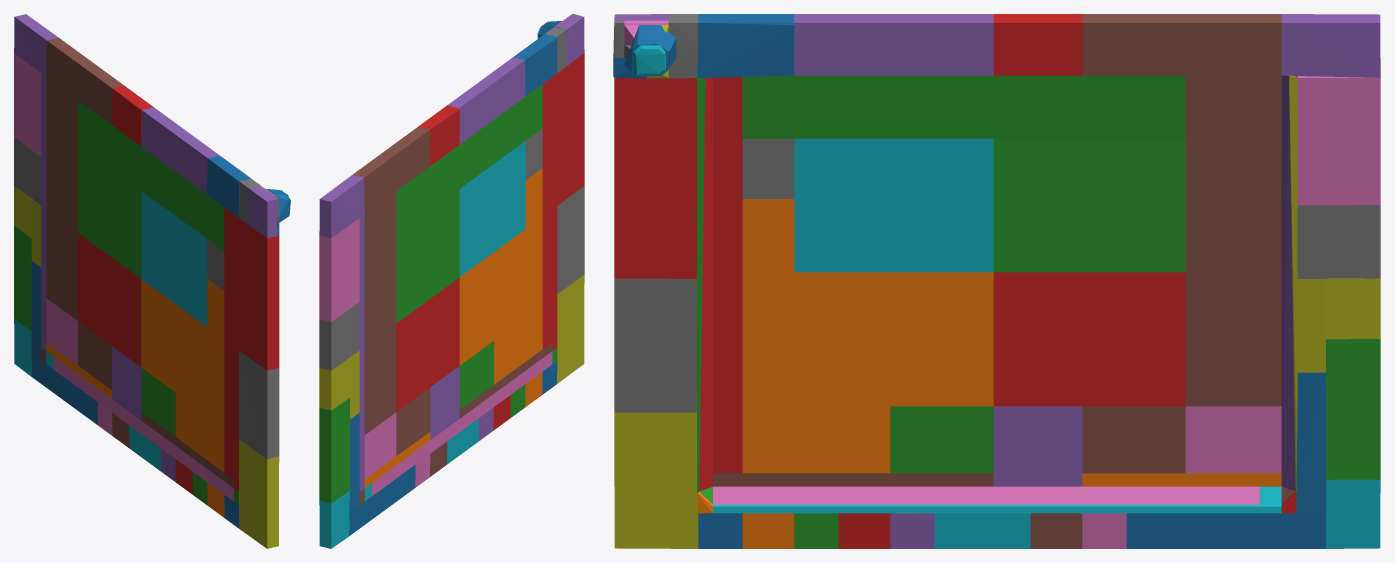
File: Door_01_cvx.obj
3 renders of one model, left to right at view 1: azimuth 30°, elevation 25°; view 2: azimuth 150°, elevation 25°; view 3: azimuth 270°, elevation 25°, orthographic. The views are drawn at different scales.
Parts seen in each view (by area): view 1: scenes/apartment_0000_coacd/output/Unknown/Kitchen_Sink/Door_01/; view 2: scenes/apartment_0000_coacd/output/Unknown/Kitchen_Sink/Door_01/; view 3: scenes/apartment_0000_coacd/output/Unknown/Kitchen_Sink/Door_01/.
Boxes of the visible parts, left/top/right/bottom form: scenes/apartment_0000_coacd/output/Unknown/Kitchen_Sink/Door_01/: left=14, top=14, right=290, bottom=548; scenes/apartment_0000_coacd/output/Unknown/Kitchen_Sink/Door_01/: left=319, top=14, right=584, bottom=548; scenes/apartment_0000_coacd/output/Unknown/Kitchen_Sink/Door_01/: left=613, top=14, right=1380, bottom=548.
Bounding box in the file's own units: 0.0378 × 0.4023 × 0.5308.
